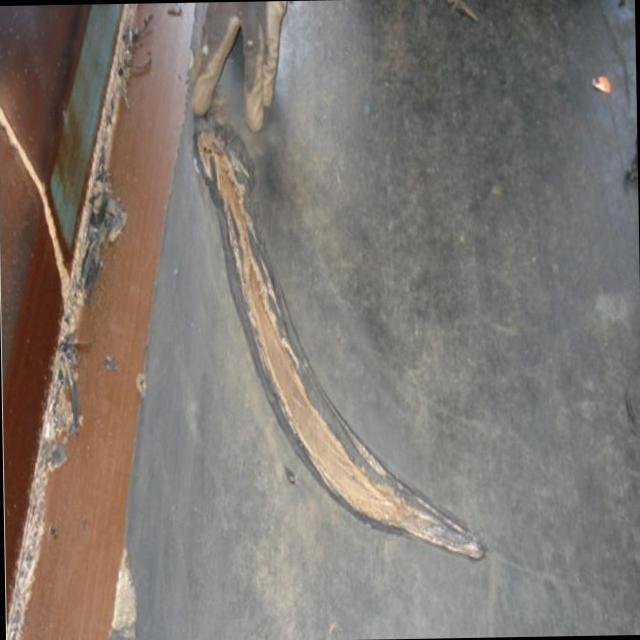Wear: (187, 113, 488, 569)
